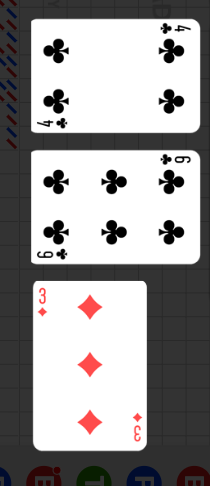4C: (159, 21, 193, 35)
6C: (35, 246, 70, 260)
6D: (132, 410, 144, 442)
